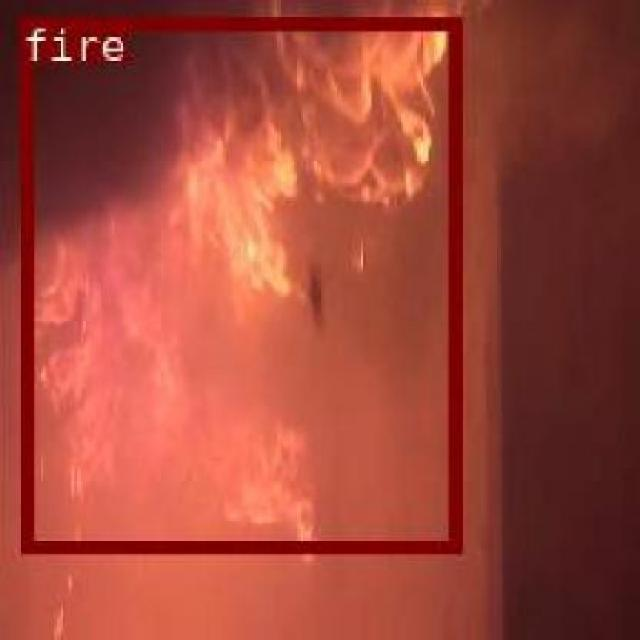Fire: (18, 14, 460, 552)
